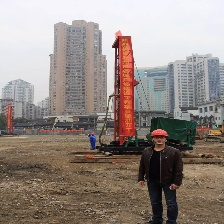helmet: (148, 127, 172, 141)
no-vest: (136, 147, 185, 190)
person: (134, 128, 188, 224)
